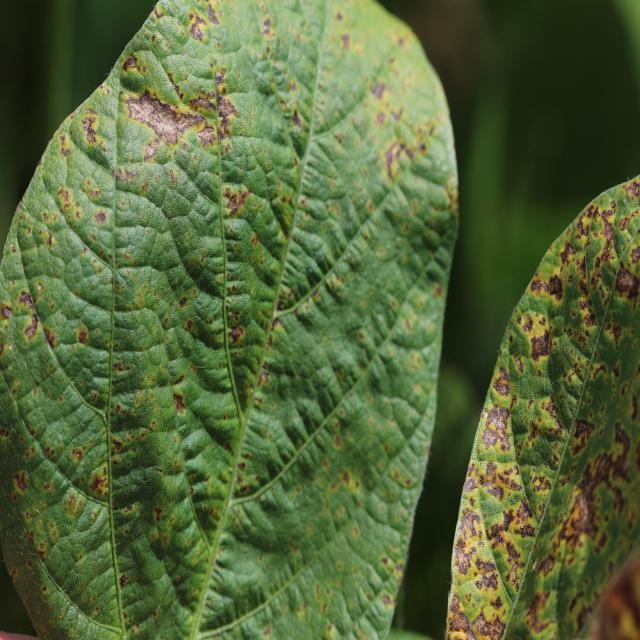Bacterial_Blight: (315, 451, 391, 546), (379, 181, 443, 275), (5, 325, 63, 411), (548, 273, 588, 353), (555, 557, 591, 632), (216, 171, 253, 222), (269, 181, 297, 241), (588, 445, 623, 490), (524, 589, 556, 634), (567, 491, 595, 536), (54, 186, 83, 228), (216, 93, 240, 139), (128, 96, 158, 130), (484, 406, 513, 441), (470, 610, 505, 639), (383, 139, 407, 181), (614, 265, 640, 302), (457, 511, 484, 546), (615, 606, 640, 640), (572, 417, 596, 449), (116, 164, 146, 187), (187, 9, 208, 40), (530, 330, 551, 360), (63, 490, 83, 520), (448, 609, 471, 634), (89, 470, 108, 498), (81, 115, 99, 143), (493, 366, 510, 395), (474, 557, 498, 577), (23, 313, 40, 341), (483, 480, 505, 501), (606, 322, 623, 348), (196, 126, 216, 148), (600, 218, 615, 246), (547, 274, 564, 298), (560, 240, 575, 266), (622, 180, 640, 201), (18, 289, 35, 311), (13, 471, 29, 494), (122, 53, 139, 74), (516, 499, 532, 521), (58, 131, 72, 156), (456, 552, 471, 575), (540, 555, 555, 577), (370, 81, 387, 100), (43, 327, 57, 350), (291, 107, 303, 132), (144, 139, 158, 160), (228, 326, 244, 344), (173, 393, 186, 415), (214, 69, 227, 88), (530, 278, 545, 294), (94, 209, 108, 225), (0, 305, 13, 321), (78, 327, 89, 345), (111, 436, 123, 452), (153, 505, 164, 522), (340, 34, 351, 51), (112, 361, 125, 374), (185, 319, 195, 333), (376, 111, 386, 124), (119, 573, 128, 587), (179, 296, 188, 308), (531, 558, 538, 571), (37, 282, 44, 292), (10, 243, 17, 253), (41, 584, 47, 593), (27, 559, 32, 568), (250, 288, 255, 297)
Soybean: (0, 0, 457, 638)
